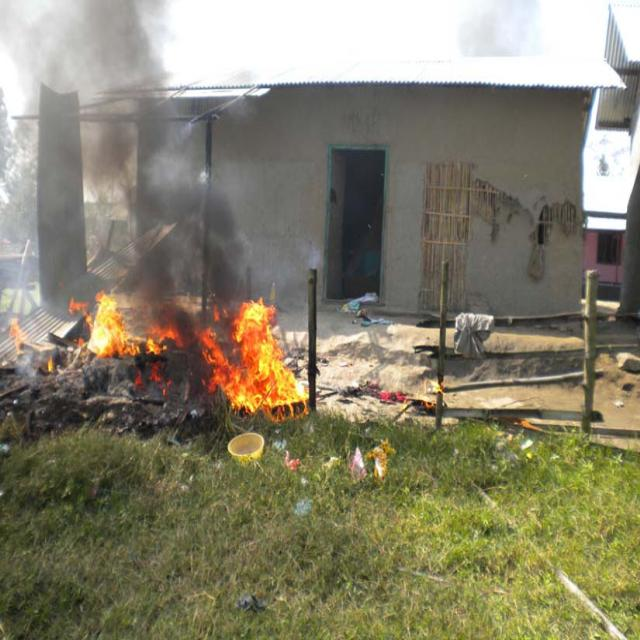fire: (236, 297, 306, 419), (86, 294, 136, 359)
smoke: (39, 18, 180, 260)
